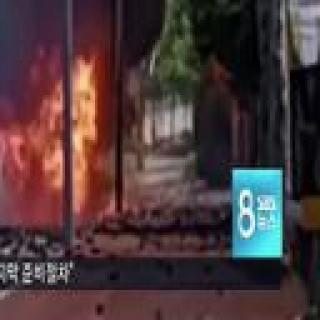fire: (16, 83, 115, 229)
